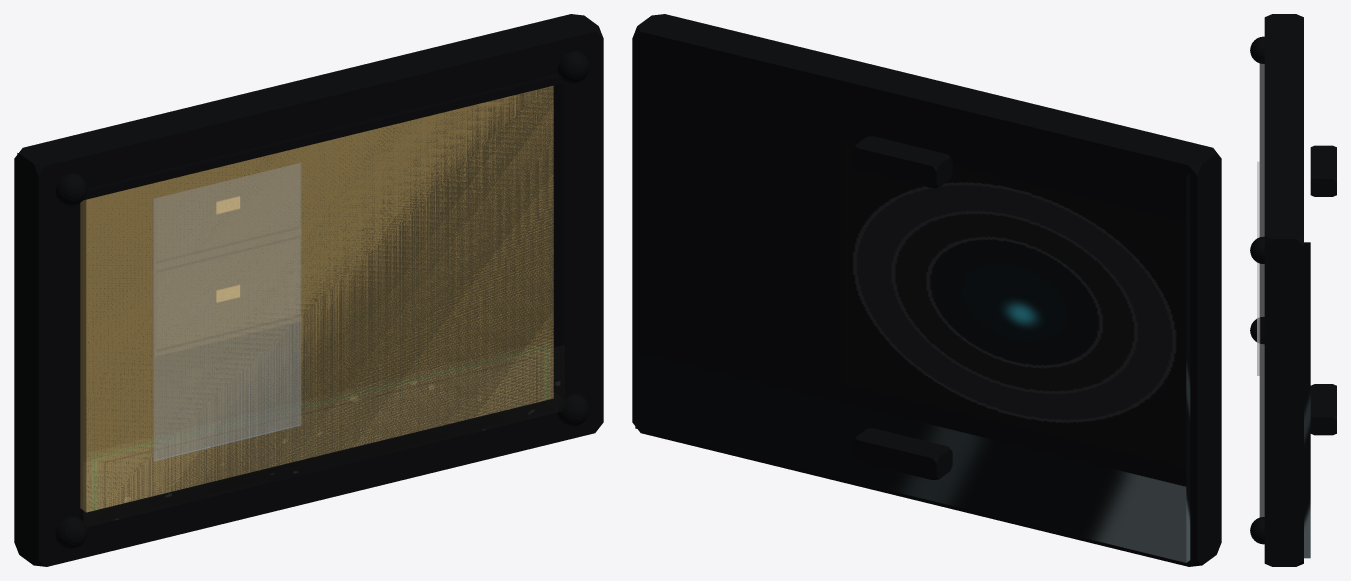
The model's file is room_l3_img2_mural_lightbox.glb.
The picture shows the model from 3 angles, left to right: view 1: azimuth 30°, elevation 25°; view 2: azimuth 150°, elevation 25°; view 3: azimuth 270°, elevation 25°; orthographic projection. The views are drawn at different scales.
Parts seen in each view (by area): view 1: front_glass, amber_glass, glare_streak, frame_top, frame_bottom, frame_right, frame_left, rivet_0, rivet_2, rivet_1, rivet_3; view 2: back_box, frame_top, frame_right, bracket_top, bracket_bottom, frame_bottom, frame_left; view 3: frame_left, frame_top, front_glass, back_box, bracket_top, bracket_bottom, frame_bottom, glare_streak, frame_right, rivet_1, rivet_2, rivet_0 (+1 smaller).
Part boxes in pixels (x1,y1,x2,y2): front_glass: (80,73,564,527); amber_glass: (80,86,553,512); glare_streak: (153,163,301,460); frame_top: (14,14,603,208); frame_bottom: (14,390,603,566); frame_right: (14,141,80,566); frame_left: (543,14,603,433); rivet_0: (557,51,589,83); rivet_2: (557,394,589,426); rivet_1: (55,173,87,205); rivet_3: (55,516,87,549); back_box: (635,41,1190,562); frame_top: (632,14,1221,207); frame_right: (1158,141,1221,565); bracket_top: (853,136,952,188); bracket_bottom: (853,428,952,480); frame_bottom: (632,394,1221,566); frame_left: (632,14,693,438); frame_left: (1264,222,1303,566); frame_top: (1264,14,1303,274); front_glass: (1259,58,1264,517); back_box: (1304,242,1310,558); bracket_top: (1310,145,1336,196); bracket_bottom: (1310,384,1336,435); frame_bottom: (1264,531,1303,566); glare_streak: (1257,161,1259,375); frame_right: (1265,14,1303,30); rivet_1: (1250,36,1264,63); rivet_2: (1250,517,1264,544); rivet_0: (1250,236,1264,263).
Bounding box in the file's own units: 1.62 × 1.1 × 0.264.
Materials: 5 (5 with a texture image).
